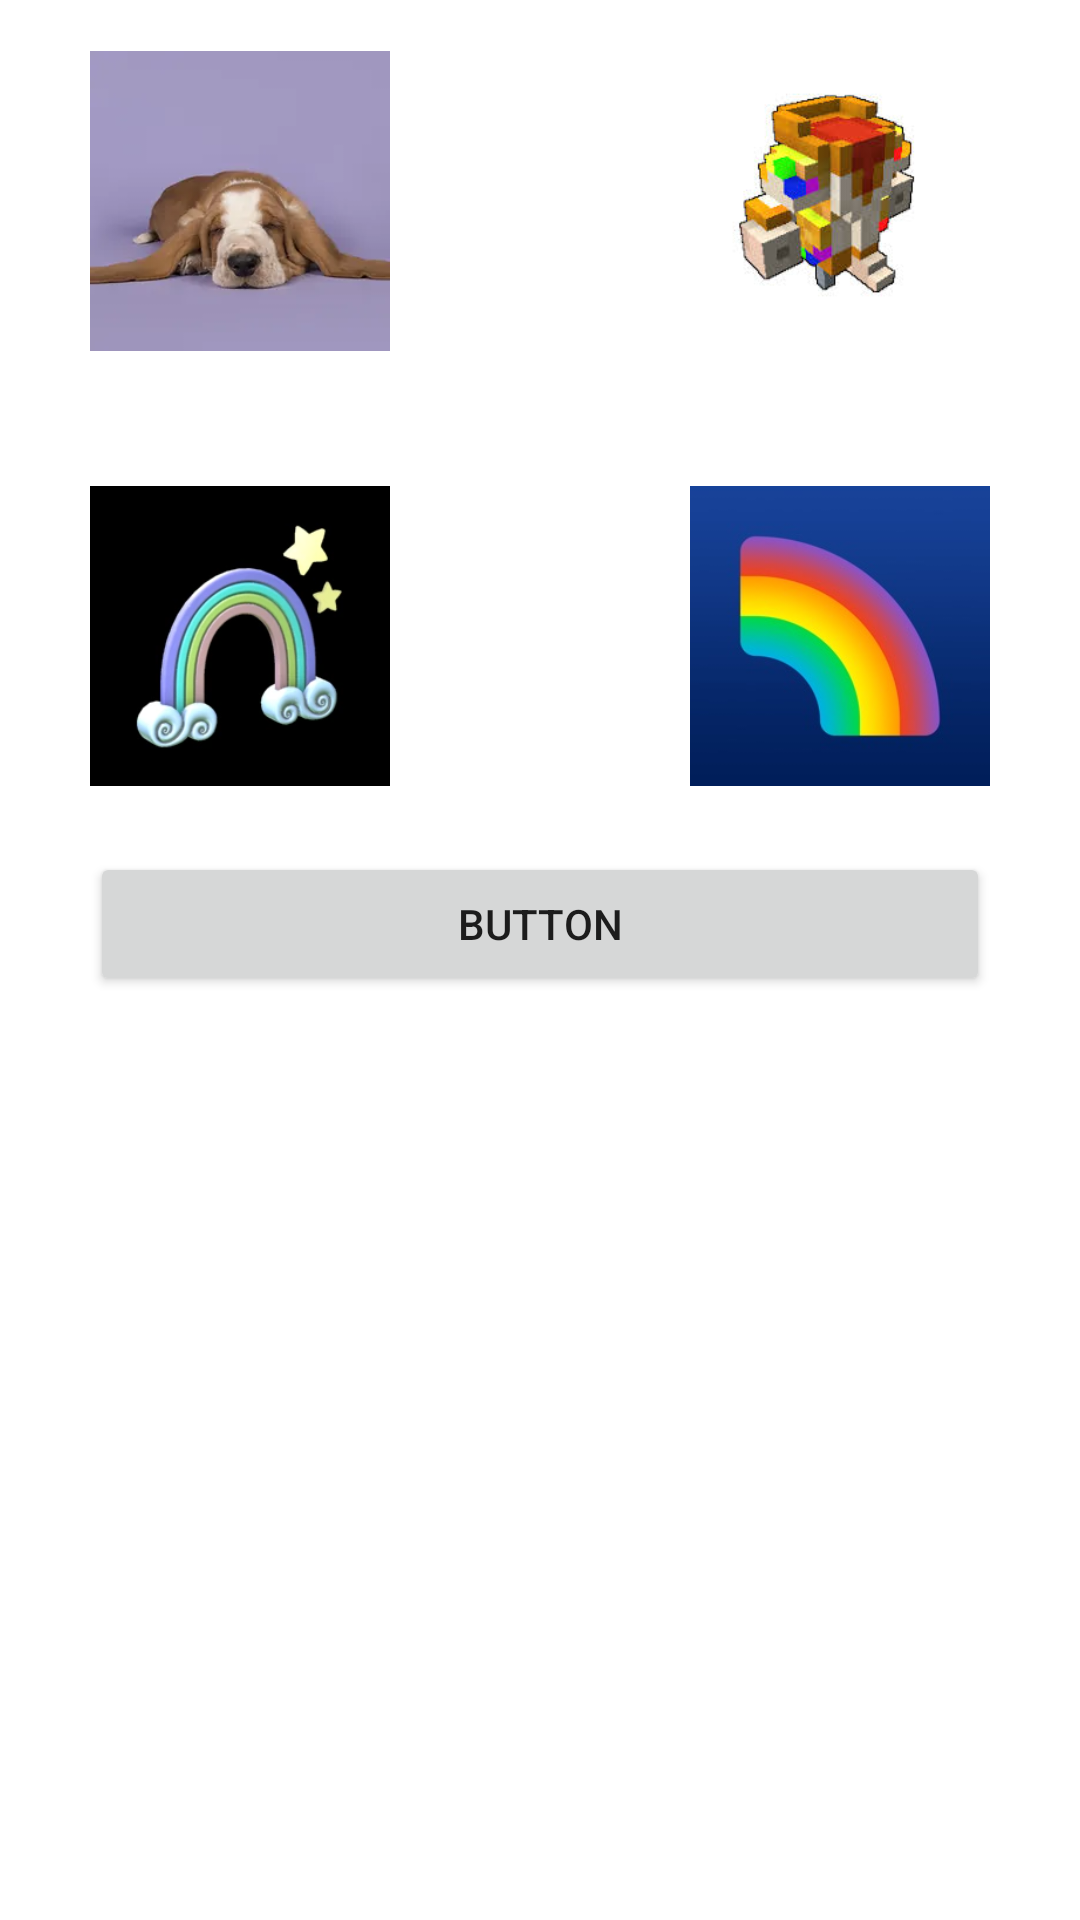

Icons on this 1080px×1920px Android screen, each with the point to tap as (x=x, y=y):
dog: (x=240, y=201)
